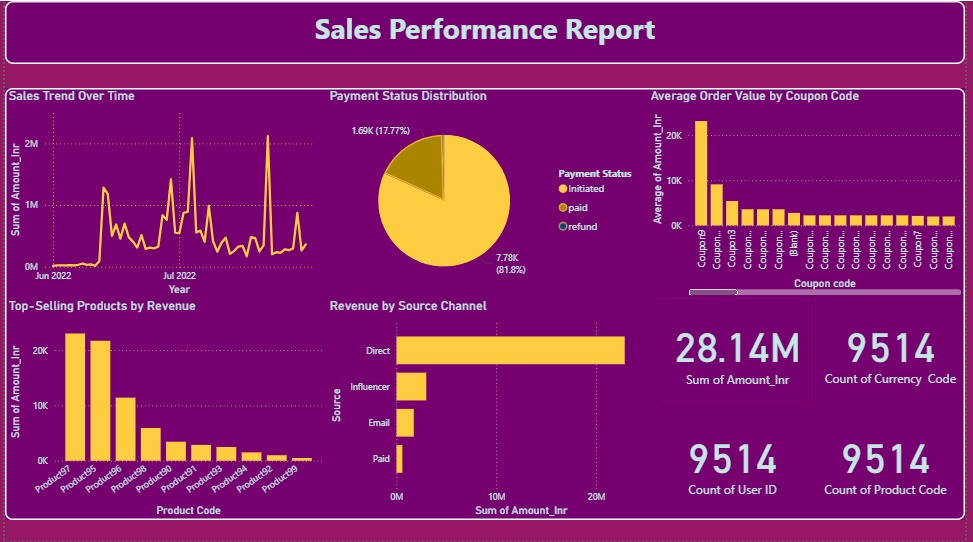

What the dashboard file says about the page in this screenshot:
{"tool":"powerbi","page":{"name":"Dashboard","canvas":[1280,720],"ordinal":1},"visuals":[{"type":"lineChart","title":"Sales Trend Over Time","fields":{"Category":["Sales data.Sales Date.Variation.Date Hierarchy.Year","Sales data.Sales Date.Variation.Date Hierarchy.Quarter","Sales data.Sales Date.Variation.Date Hierarchy.Month","Sales data.Sales Date.Variation.Date Hierarchy.Day"],"Y":["Sum(Sales data.Amount_Inr)"]},"box":[0,116,428,281.3],"z":0},{"type":"columnChart","title":"Top-Selling Products by Revenue","fields":{"Category":["Sales data.Product Code"],"Y":["Sum(Sales data.Amount_Inr)"]},"box":[0,396,428,296],"z":1000},{"type":"barChart","title":"Revenue by Source Channel","fields":{"Category":["Sales data.Source"],"Y":["Sum(Sales data.Amount_Inr)"]},"box":[428,396,444,296],"z":2000},{"type":"pieChart","title":"Payment Status Distribution","fields":{"Category":["Sales data.Payment Status"],"Y":["CountNonNull(Sales data.User ID)"]},"box":[428,116,428,281.3],"z":3000},{"type":"columnChart","title":"Average Order Value by Coupon Code","fields":{"Category":["Sales data.Coupon code"],"Y":["Avg(Sales data.Amount_Inr)"]},"box":[856,116,424,281.3],"z":4000},{"type":"textbox","box":[0,0,1280,84],"z":5000},{"type":"card","fields":{"Values":["Sum(Sales data.Amount_Inr)"]},"box":[872,397.3,209.3,137.3],"z":6000},{"type":"card","fields":{"Values":["CountNonNull(Sales data.User ID)"]},"box":[872,534.7,196,157.3],"z":7000},{"type":"card","fields":{"Values":["CountNonNull(Sales data.Currency  Code)"]},"box":[1081.3,396,198.7,138.7],"z":8000},{"type":"card","fields":{"Values":["CountNonNull(Sales data.Product Code)"]},"box":[1068,534.7,212,157.3],"z":9000},{"type":"textbox","box":[0,116,1280,576],"z":9001}]}

Visuals, with their boxes in screenshot pixels (x1, y1, x2, y2), scaled from the page's 1280x720 canvas onto the 973x542 screenshot:
"Sales Trend Over Time" lineChart: box(0, 87, 325, 299)
"Top-Selling Products by Revenue" columnChart: box(0, 298, 325, 521)
"Revenue by Source Channel" barChart: box(325, 298, 663, 521)
"Payment Status Distribution" pieChart: box(325, 87, 651, 299)
"Average Order Value by Coupon Code" columnChart: box(651, 87, 972, 299)
textbox: box(0, 0, 972, 63)
card - Sum(Sales data.Amount_Inr): box(663, 299, 822, 402)
card - CountNonNull(Sales data.User ID): box(663, 403, 812, 521)
card - CountNonNull(Sales data.Currency  Code): box(822, 298, 972, 403)
card - CountNonNull(Sales data.Product Code): box(812, 403, 972, 521)
textbox: box(0, 87, 972, 521)
